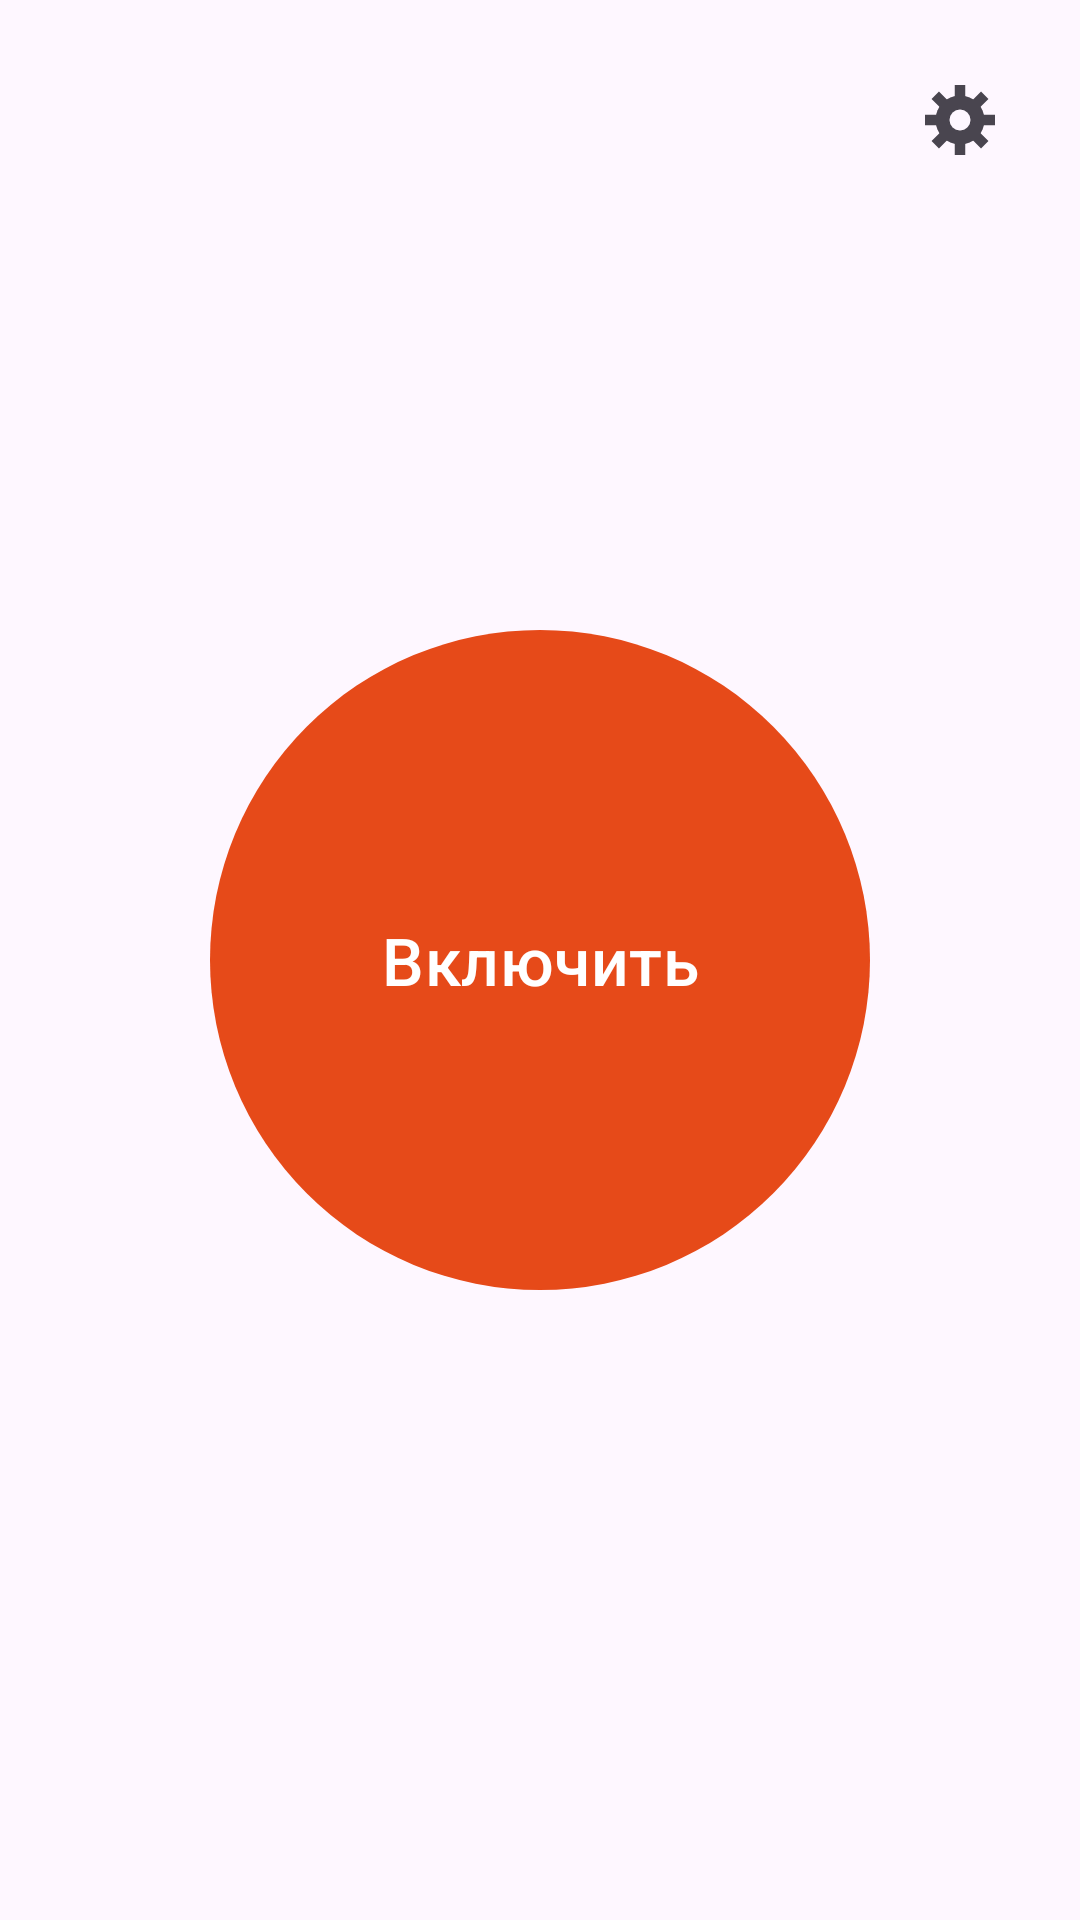

Screen size 1080px×1920px. Icon name, then its box in pixels as region(x1, y1, x2, y2):
Настройки: region(925, 85, 995, 155)
